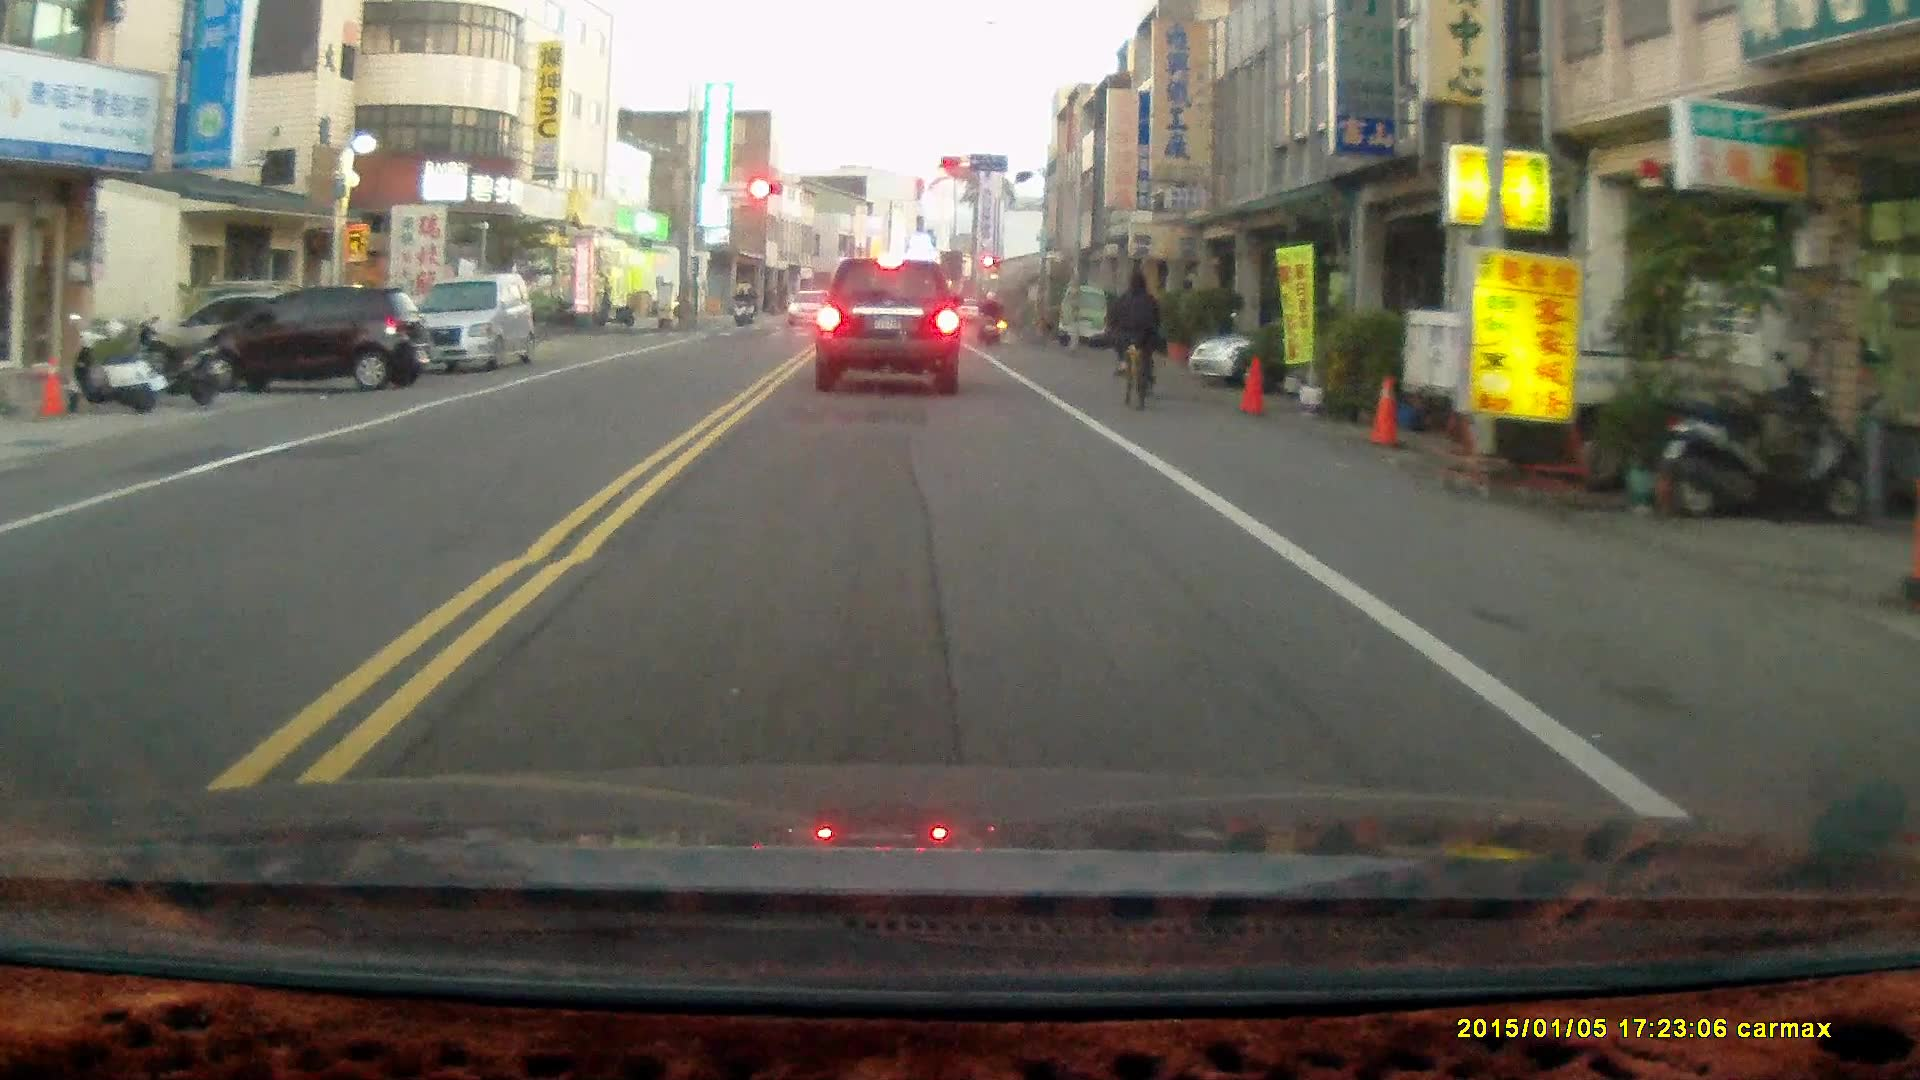rider: (1107, 263, 1163, 408), (973, 287, 1002, 347), (731, 281, 754, 325)
vehicle: (205, 284, 428, 393), (813, 259, 966, 401), (1187, 315, 1438, 398), (390, 275, 532, 376)
